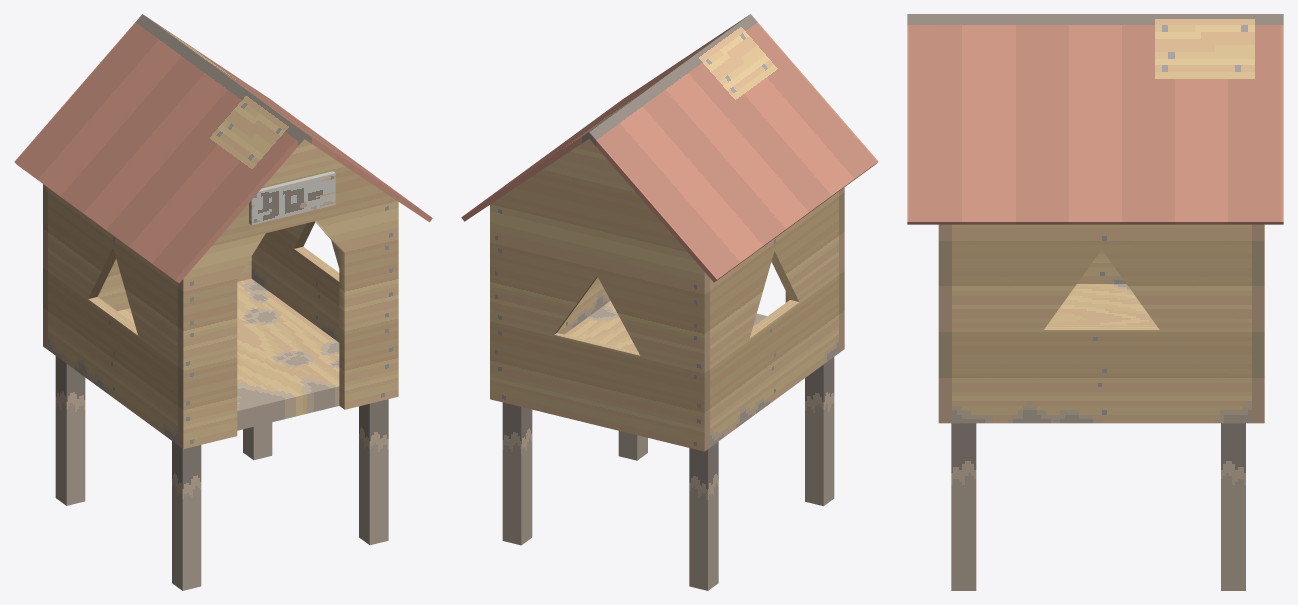
File: 04c0_Doghouse.glb
3 renders of one model, left to right at view 1: azimuth 30°, elevation 25°; view 2: azimuth 150°, elevation 25°; view 3: azimuth 270°, elevation 25°, orthographic. The views are drawn at different scales.
Visible parts, largest first — view 1: part_0; view 2: part_0; view 3: part_0.
Part boxes in pixels (<box>): part_0: <box>14,14,432,590</box>; part_0: <box>461,14,878,590</box>; part_0: <box>907,14,1283,590</box>.
Bounding box in the file's own units: 0.5486 × 0.9133 × 0.6.
Materials: 1 (1 with a texture image).
